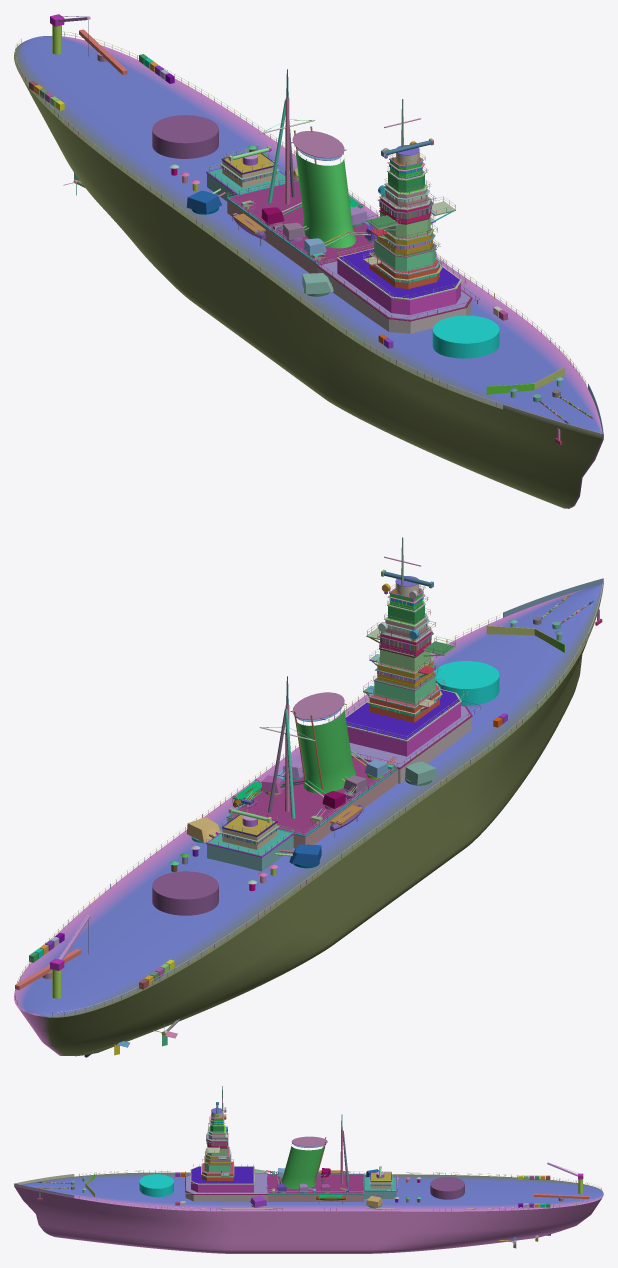
3 views of the same model, one above another, from view 1: azimuth 30°, elevation 25°; view 2: azimuth 150°, elevation 25°; view 3: azimuth 270°, elevation 25° (orthographic). The views are drawn at different scales.
Visible parts, largest first — view 1: hull; view 2: hull; view 3: hull.
Part boxes in pixels (x1,y1,x2,y2): hull: (14,14,603,508); hull: (14,537,603,1057); hull: (14,1086,603,1253).
Size of what is drawn, in the model's own units: 32.88 by 60.94 by 215.
